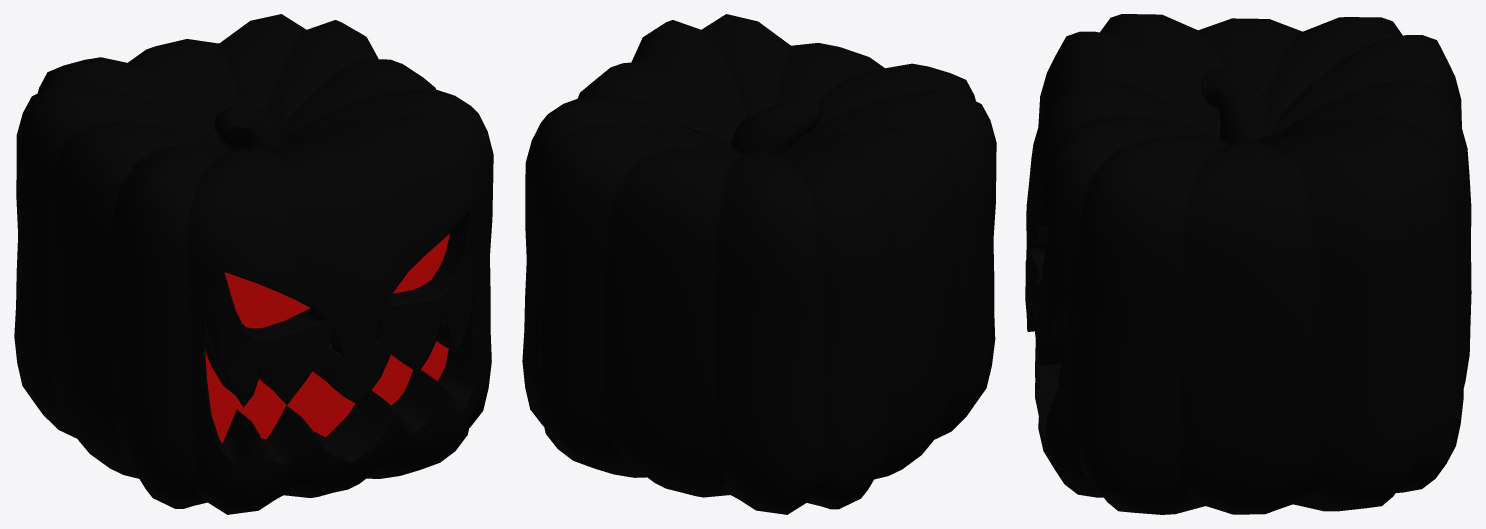
Rendered from PumpkinCube2_SM.glb.
The picture shows the model from 3 angles, left to right: view 1: azimuth 30°, elevation 25°; view 2: azimuth 150°, elevation 25°; view 3: azimuth 270°, elevation 25°; orthographic projection. The views are drawn at different scales.
Parts seen in each view (by area): view 1: PumpkinCube2_SM; view 2: PumpkinCube2_SM; view 3: PumpkinCube2_SM.
Boxes of the visible parts, x1,y1,x2,y2 form: PumpkinCube2_SM: (14, 14, 493, 514); PumpkinCube2_SM: (522, 14, 996, 514); PumpkinCube2_SM: (1025, 14, 1471, 514).
Size of the model in its own units: 1.82 by 1.71 by 1.8.
Materials: 1 (1 with a texture image).
